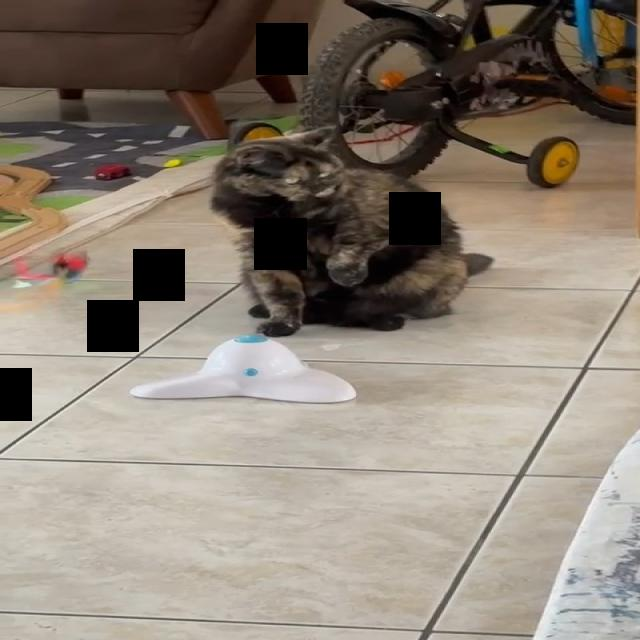authorized: (208, 124, 493, 336)
